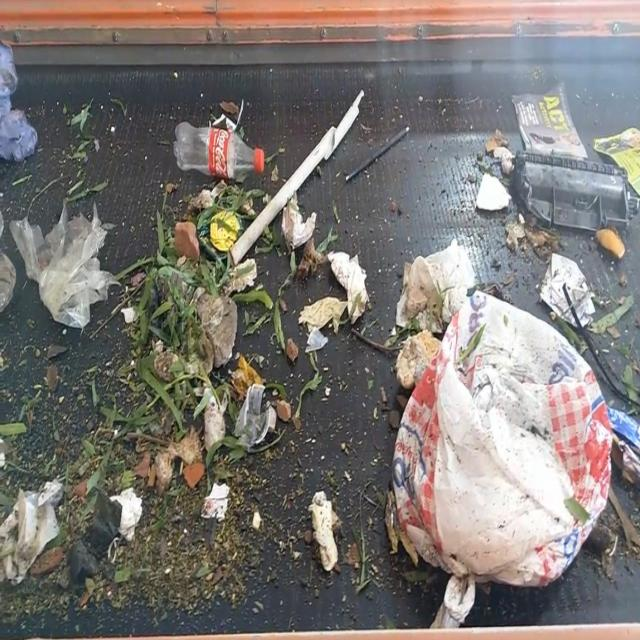bottle: (166, 122, 284, 188), (0, 30, 40, 170)
